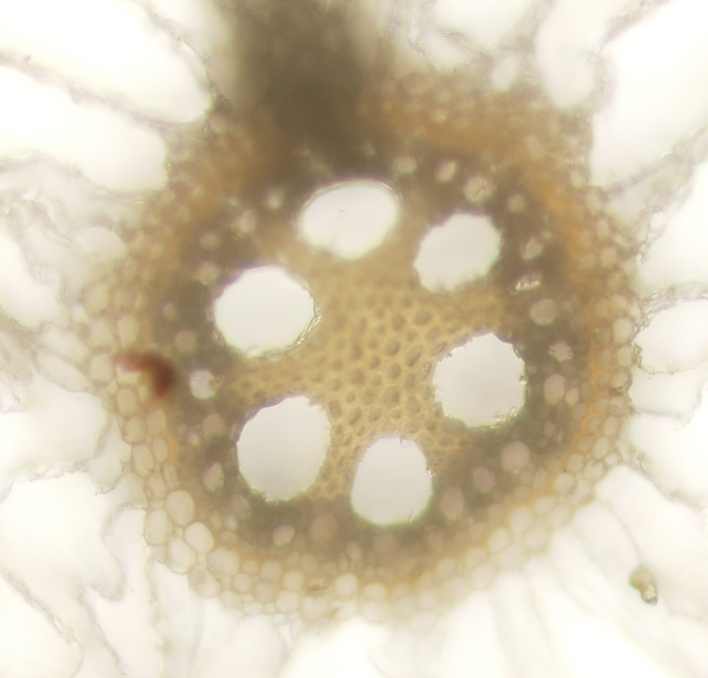lm: (235, 395, 330, 502), (209, 264, 317, 355), (434, 332, 527, 428), (296, 177, 400, 260), (350, 435, 433, 526), (412, 209, 502, 291)
